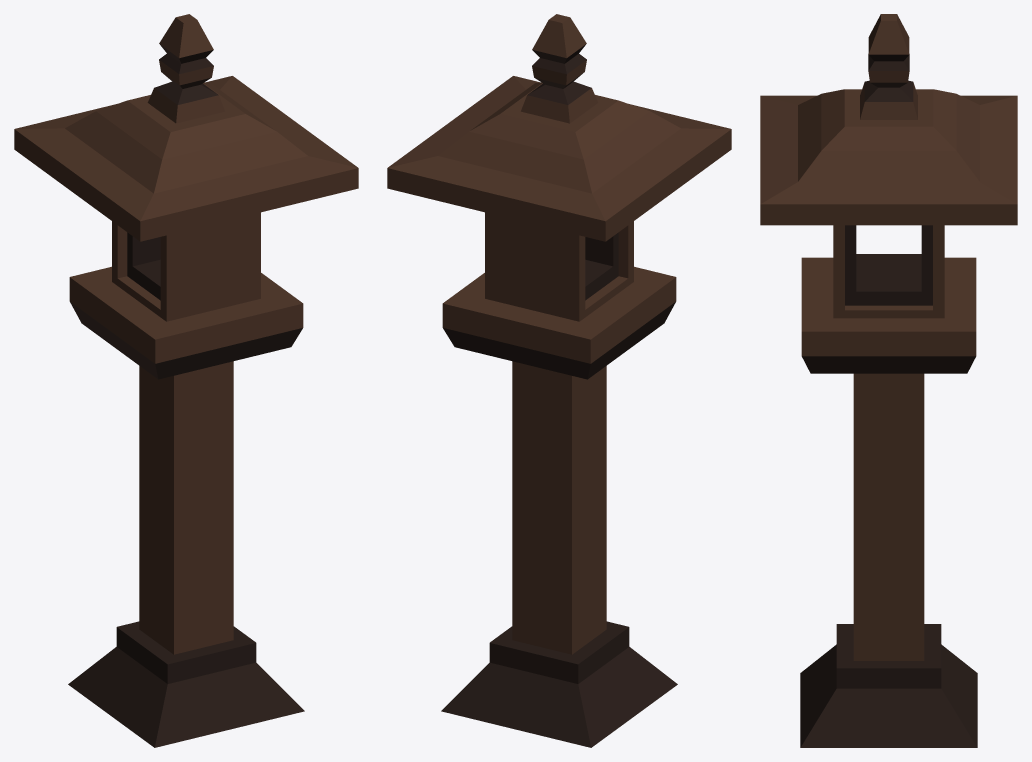
Rendered from brown-skinny-lantern.glb.
3 views of the same model, side by side, from view 1: azimuth 30°, elevation 25°; view 2: azimuth 150°, elevation 25°; view 3: azimuth 270°, elevation 25° (orthographic). The views are drawn at different scales.
Parts seen in each view (by area): view 1: OWnG_gardenLantern(KasugaDoro)_02; view 2: OWnG_gardenLantern(KasugaDoro)_02; view 3: OWnG_gardenLantern(KasugaDoro)_02.
Part boxes in pixels (x1,y1,x2,y2): OWnG_gardenLantern(KasugaDoro)_02: [14, 14, 358, 747]; OWnG_gardenLantern(KasugaDoro)_02: [387, 14, 731, 747]; OWnG_gardenLantern(KasugaDoro)_02: [760, 14, 1017, 747].
Size of the model in its own units: 1.24 by 3.69 by 1.24.
